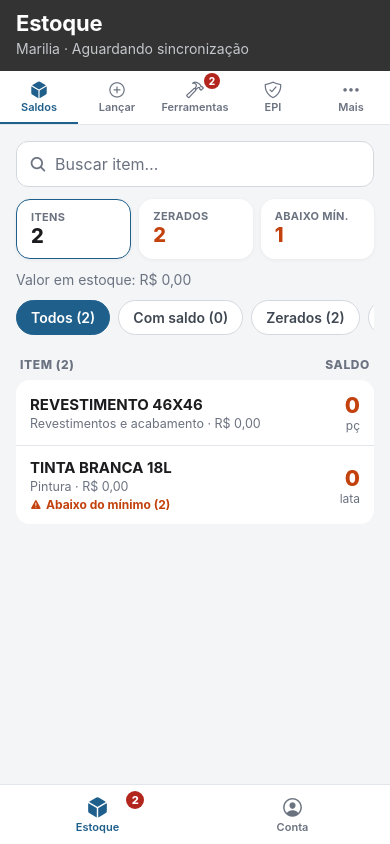
Test: Equipamentos › alertas: ferramenta atrasada, locação vencida e peças na obra errada aparecem na aba e no filtro
This screenshot has width=390, height=844.
Expected: the element with test id "aviso-equipamentos" reads "2", [209, 75, 215, 87]
Click the element with test id "aba-equipamentos". click: (195,98)
box: [156, 71, 234, 124]
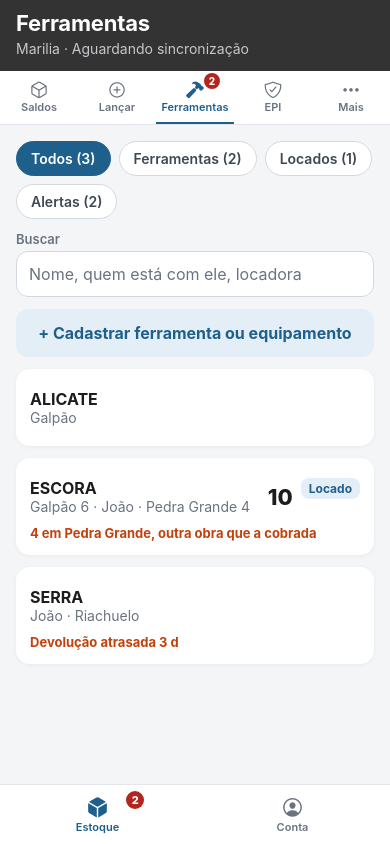
Result: the text "Devolução atrasada 3 d" is shown at [30, 634, 179, 650]
Result: the text "4 em Pedra Grande, outra obra que a cobrada" is shown at [30, 525, 360, 541]
Click the element with test id "equip-alertas". click: (67,202)
box: [16, 184, 117, 219]
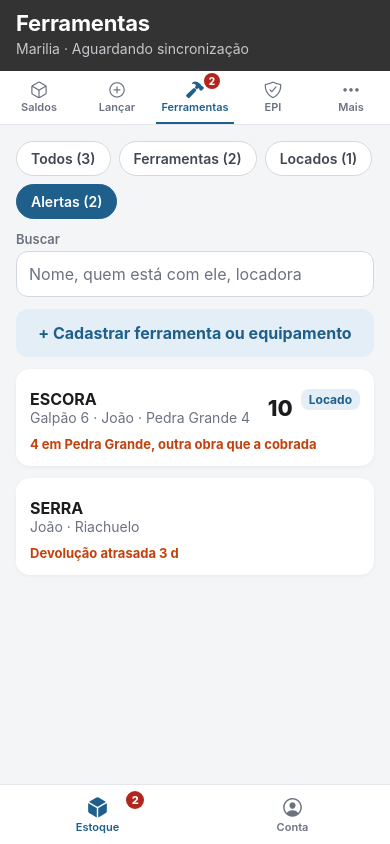
Result: the text "SERRA" is shown at [30, 498, 83, 518]
Result: the text "ALICATE" is gone
